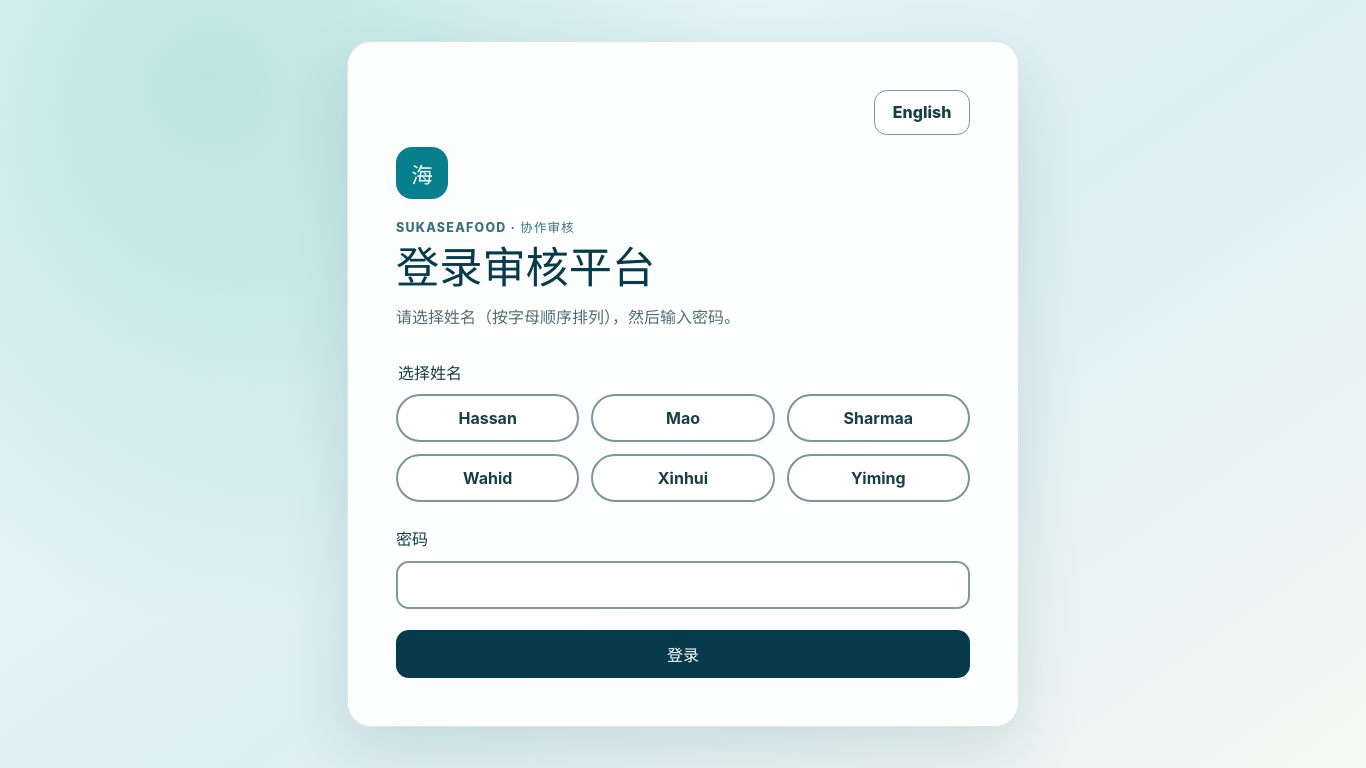
Scenario: login page › maps a network login failure to a retryable service message
Click the radio button labelled "Hassan".
click(488, 418)  # box [396,394,579,442]
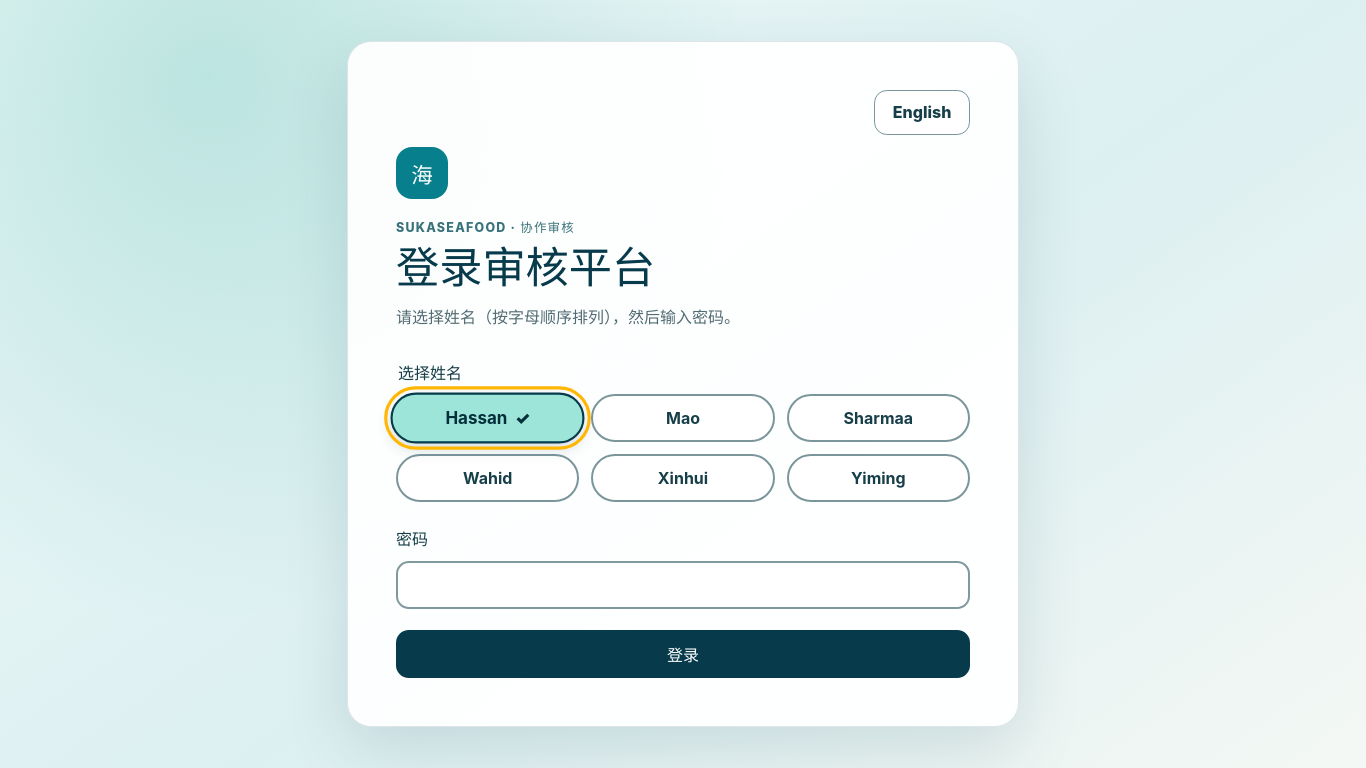
Type "wrong-password" into the password field labelled "密码".
click(683, 585); type("wrong-password")  # box [396,561,970,609]
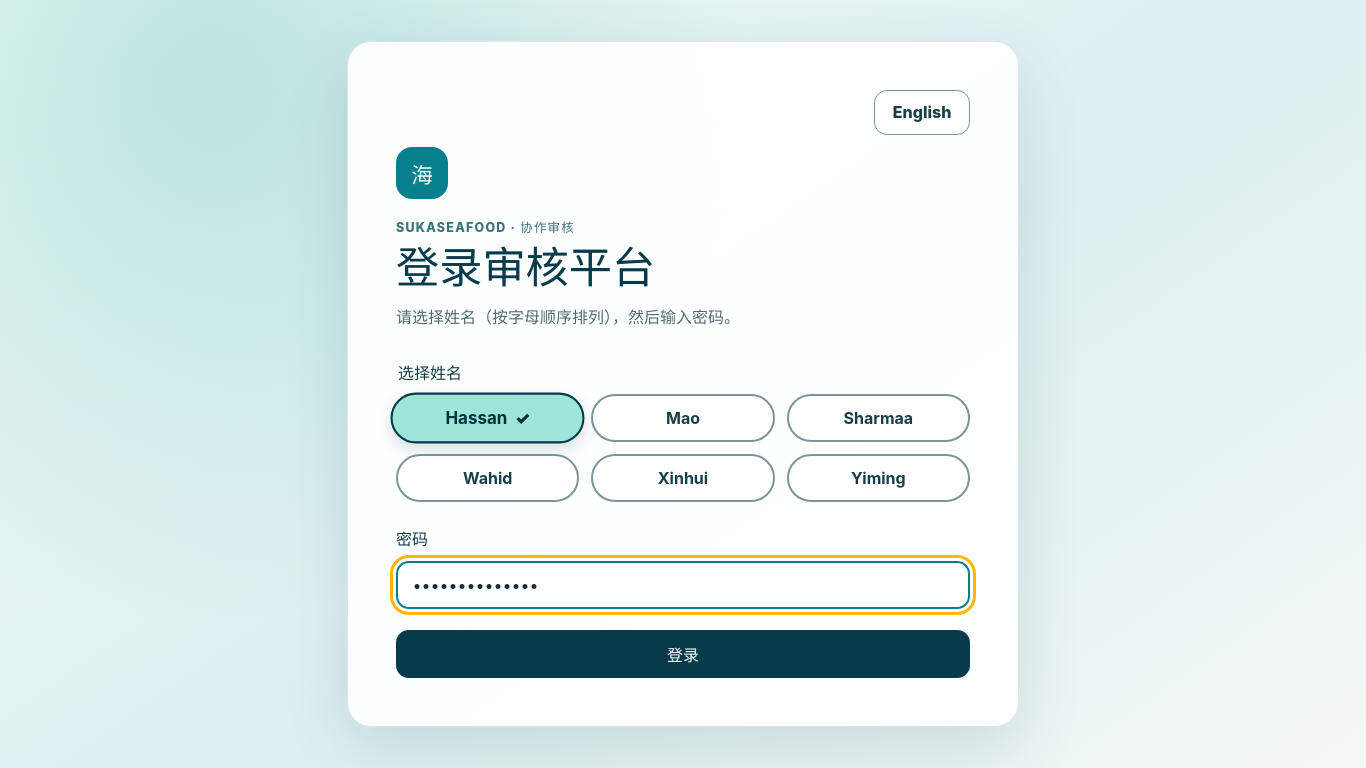
Click the button "登录".
click(683, 654)  # box [396,630,970,678]
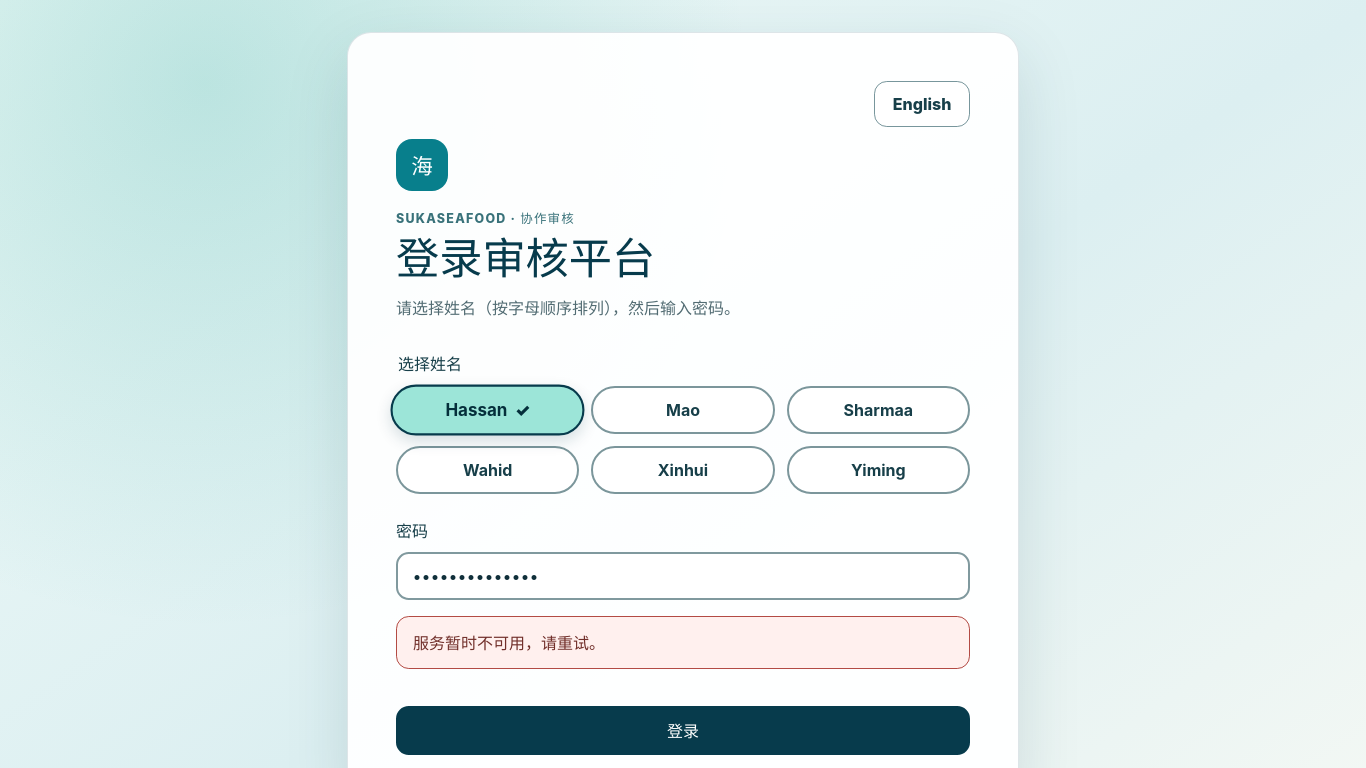
expect the message reads "服务暂时不可用，请重试。": met, box [413,633,605,653]
